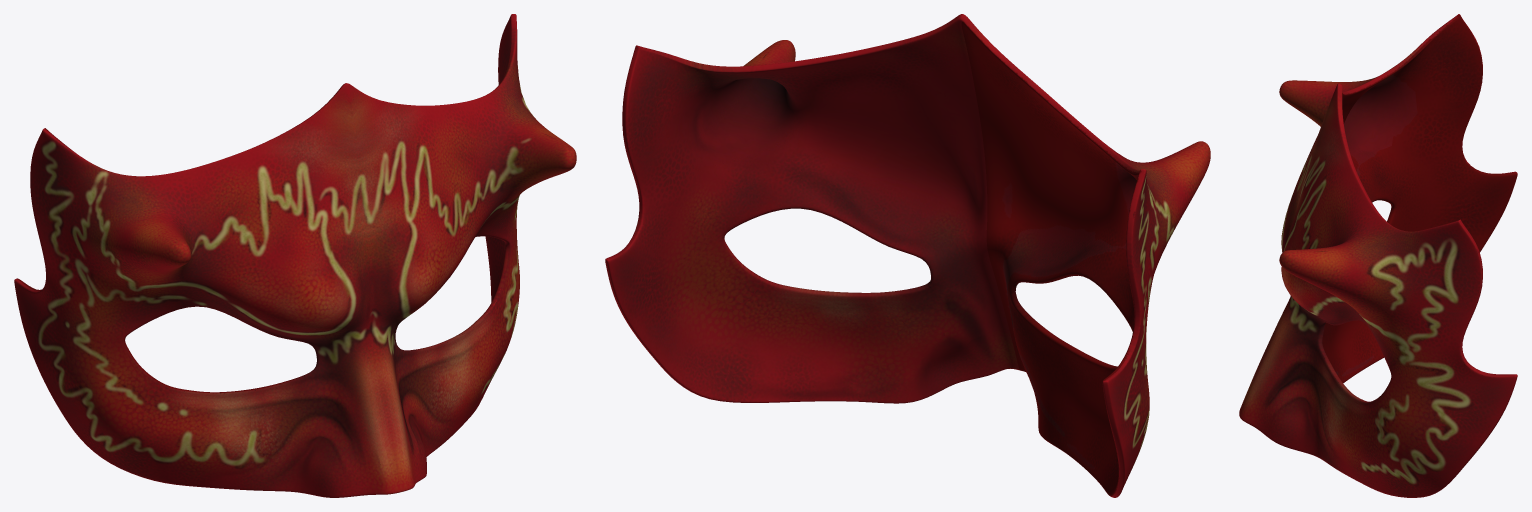
File: DiavoloMask.dae
The picture shows the model from 3 angles, left to right: view 1: azimuth 30°, elevation 25°; view 2: azimuth 150°, elevation 25°; view 3: azimuth 270°, elevation 25°; orthographic projection. The views are drawn at different scales.
Parts seen in each view (by area): view 1: 13551_Diavolo_Mask_v1_l3; view 2: 13551_Diavolo_Mask_v1_l3; view 3: 13551_Diavolo_Mask_v1_l3.
Boxes of the visible parts, bbox=[...] form: 13551_Diavolo_Mask_v1_l3: bbox=[14, 14, 576, 497]; 13551_Diavolo_Mask_v1_l3: bbox=[605, 14, 1210, 497]; 13551_Diavolo_Mask_v1_l3: bbox=[1239, 14, 1517, 497].
Bounding box in the file's own units: 14.07 × 7.97 × 10.89.
Materials: 1 (1 with a texture image).
